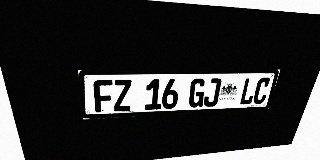1: (145, 79, 163, 110)
6: (161, 79, 180, 109)
C: (252, 77, 272, 104)
F: (93, 80, 114, 112)
G: (188, 78, 207, 108)
J: (203, 78, 222, 107)
L: (239, 78, 258, 105)
Z: (113, 79, 131, 111)
